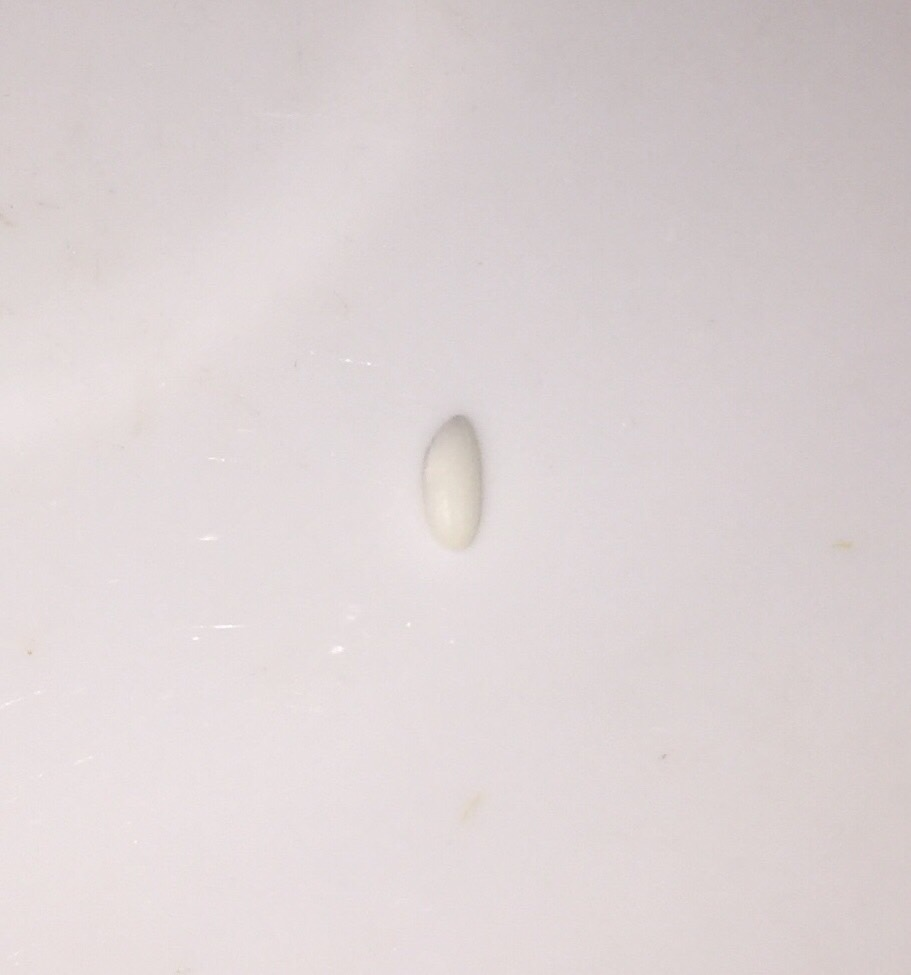Gao Nep Sap: (400, 404, 498, 558)
